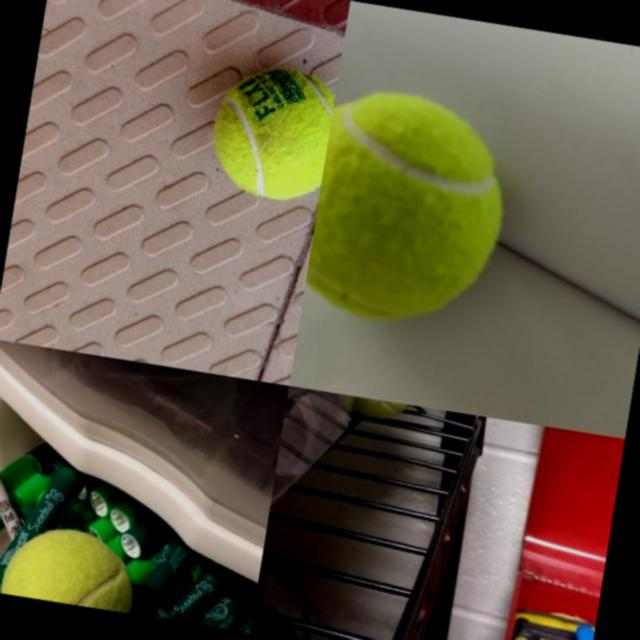tennis-ball: (302, 81, 522, 340), (205, 59, 338, 205), (0, 518, 145, 613), (361, 398, 416, 425)
